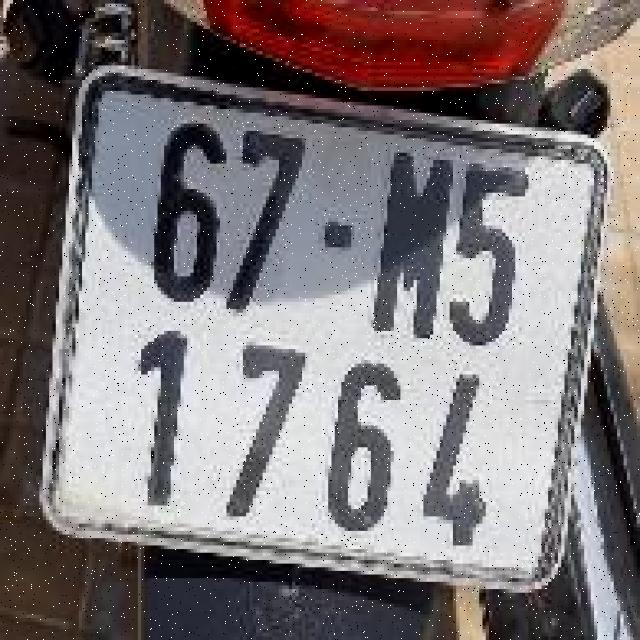1: (130, 332, 192, 514)
4: (415, 347, 494, 555)
5: (448, 158, 533, 351)
6: (325, 338, 410, 542), (143, 116, 228, 313)
7: (223, 126, 322, 318), (215, 336, 310, 529)
M: (371, 140, 463, 347)
